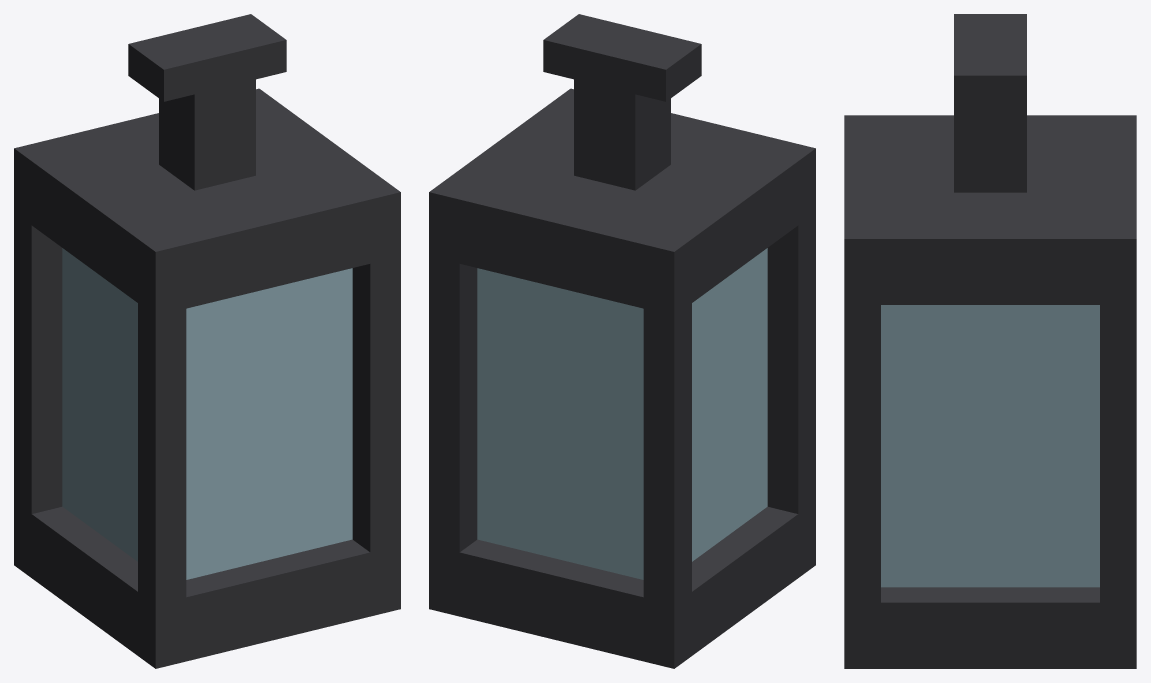
Rendered from upg_galleon_lantern.glb.
3 views of the same model, side by side, from view 1: azimuth 30°, elevation 25°; view 2: azimuth 150°, elevation 25°; view 3: azimuth 270°, elevation 25° (orthographic). The views are drawn at different scales.
Parts seen in each view (by area): view 1: upg_galleon_lantern; view 2: upg_galleon_lantern; view 3: upg_galleon_lantern.
Boxes of the visible parts, box(x1,y1,x2,y2) form: upg_galleon_lantern: box(14, 14, 400, 668); upg_galleon_lantern: box(429, 14, 815, 668); upg_galleon_lantern: box(844, 14, 1136, 668).
Size of the model in its own units: 0.48 by 1.02 by 0.48.
